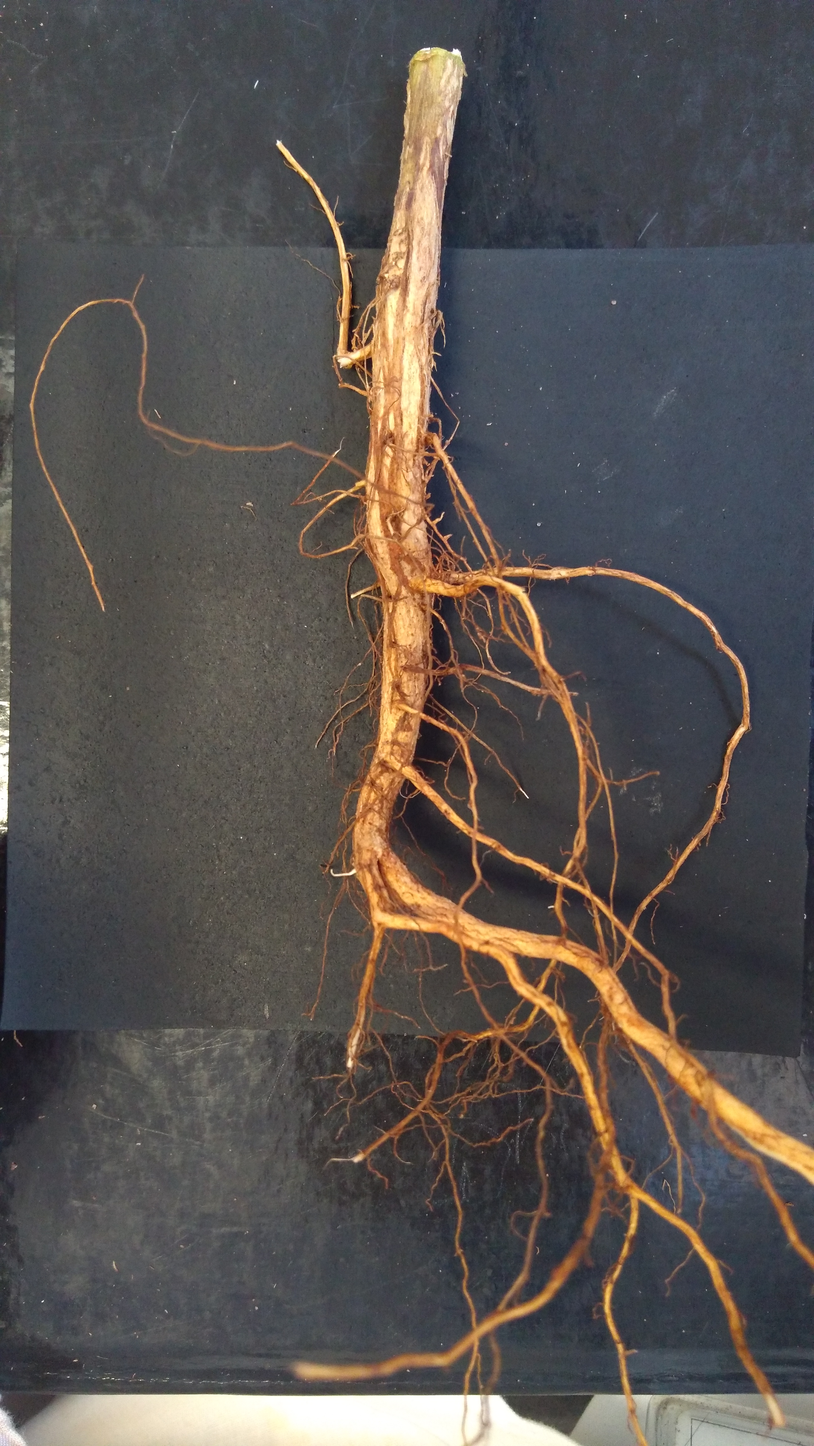nodule: (434, 309, 443, 328), (416, 732, 422, 740), (445, 439, 450, 446), (536, 522, 541, 527)
